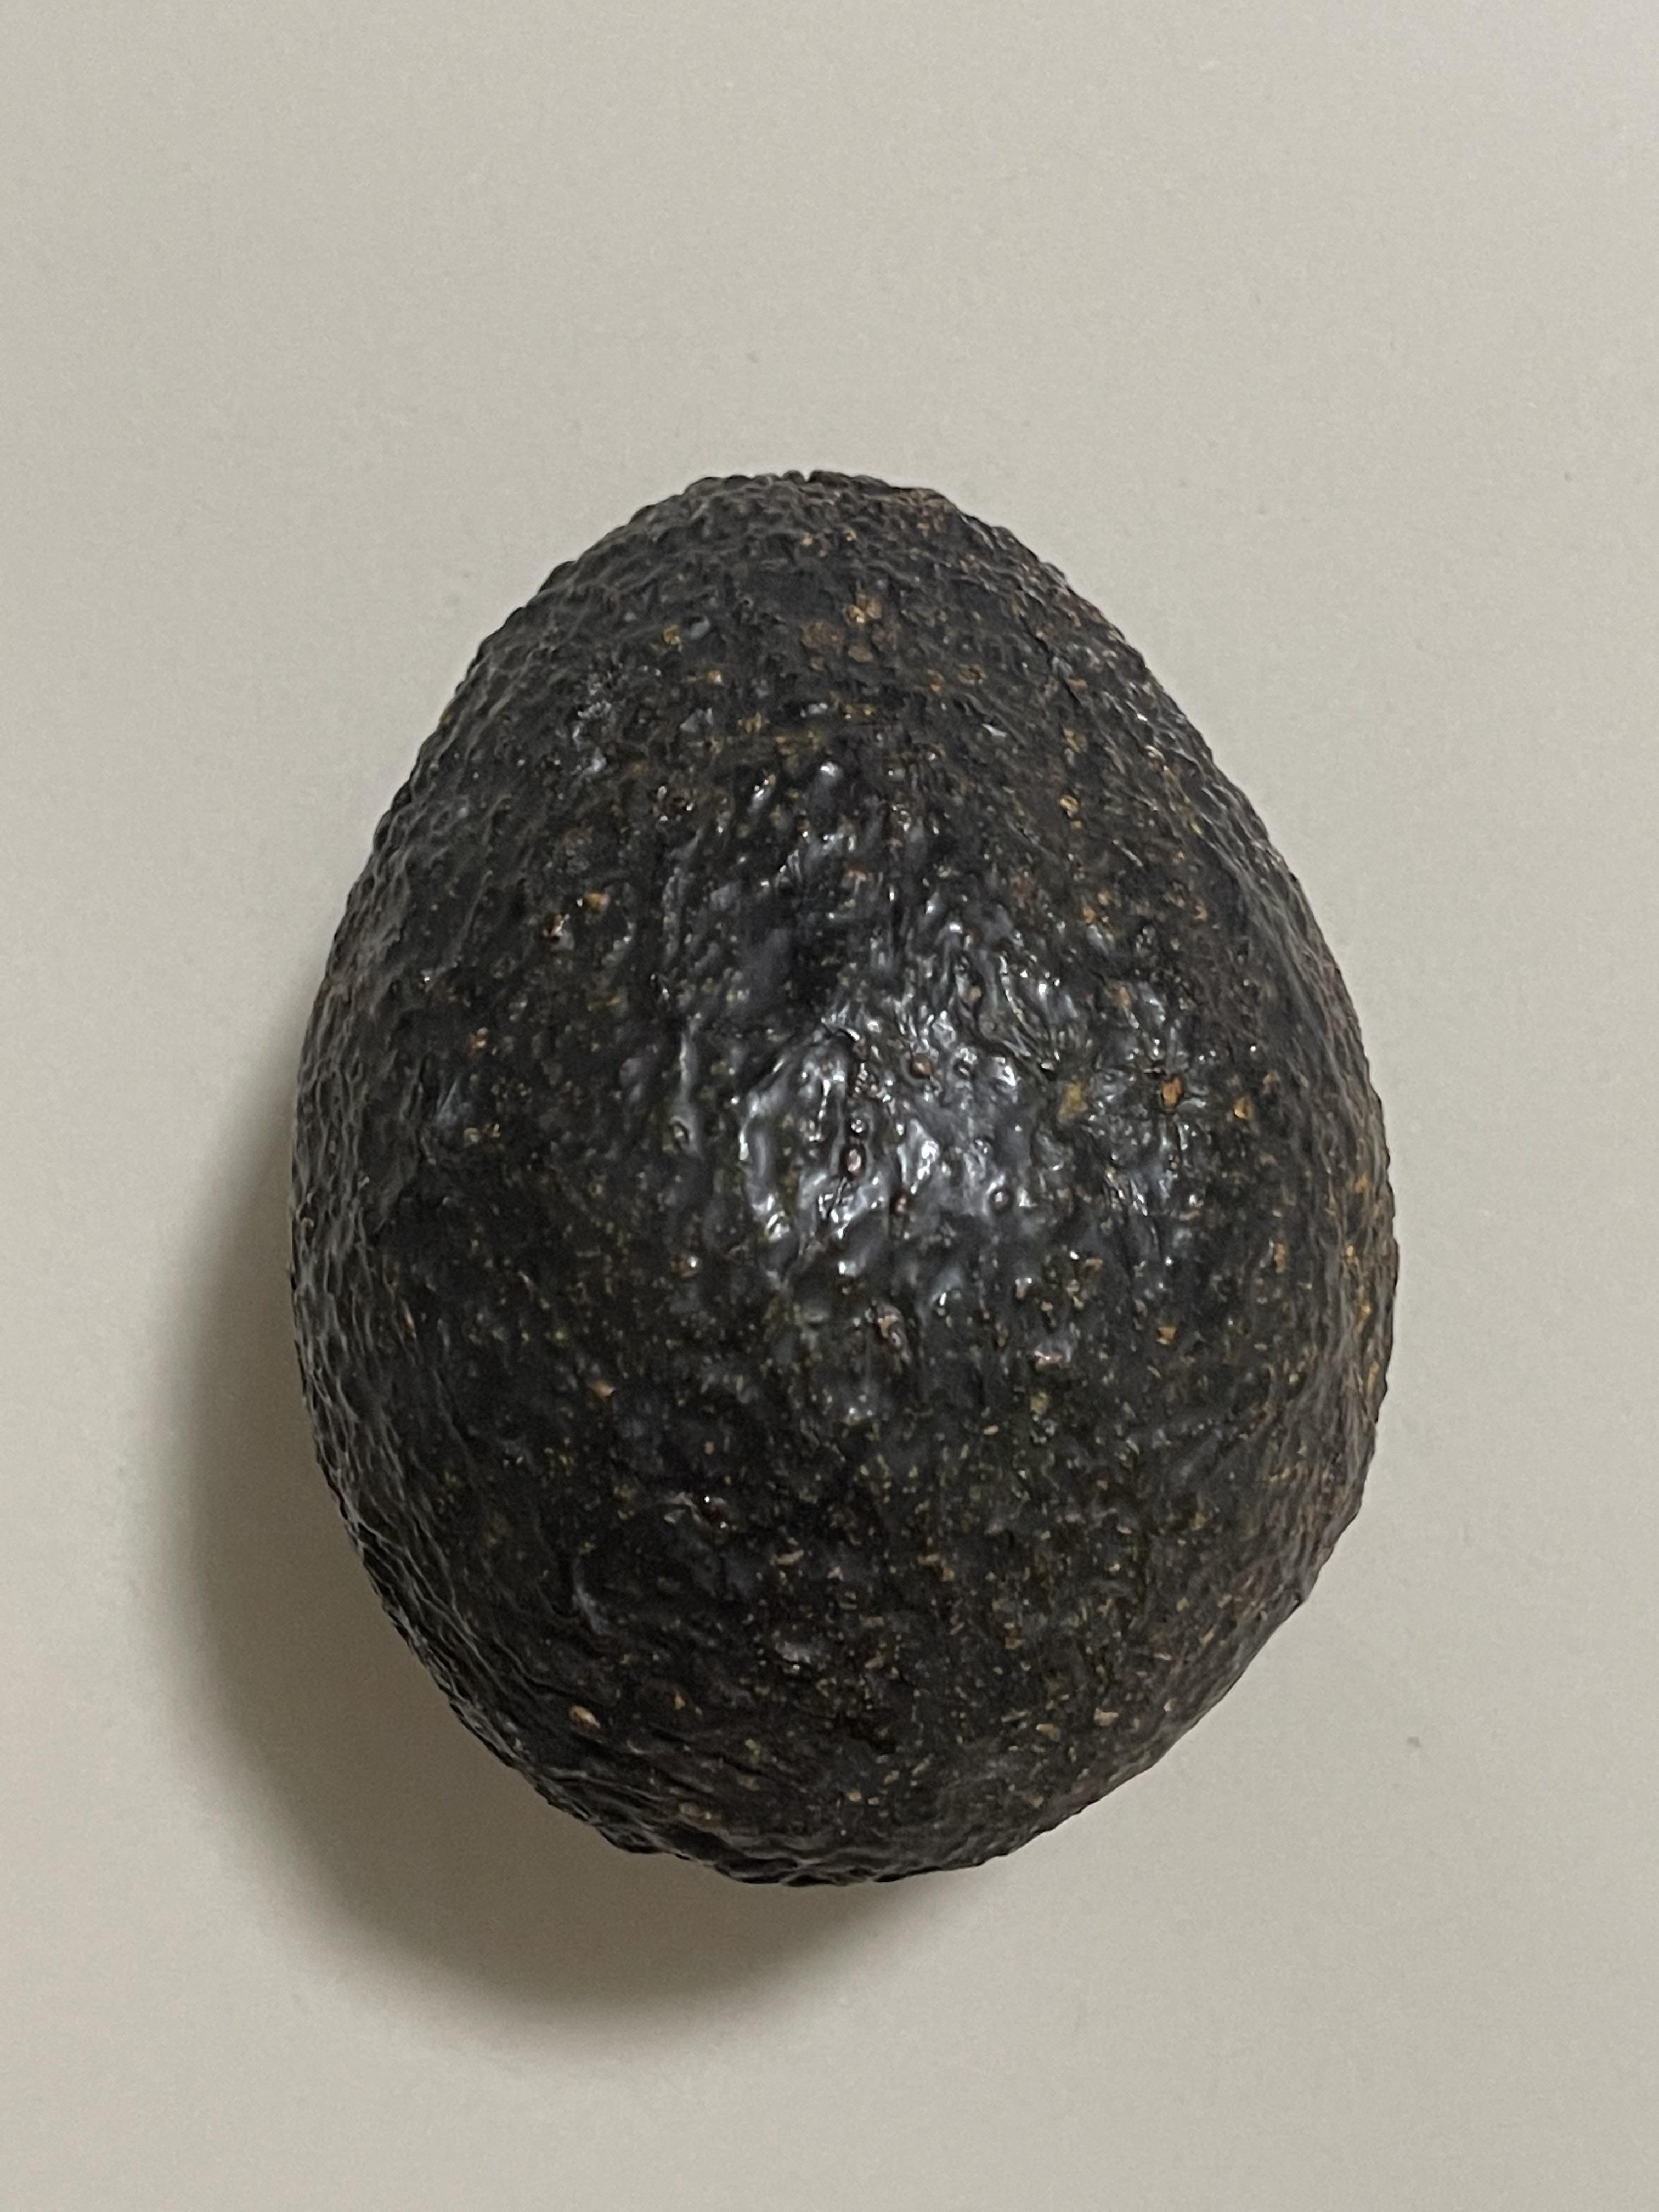Level2: (268, 444, 1403, 1904)
